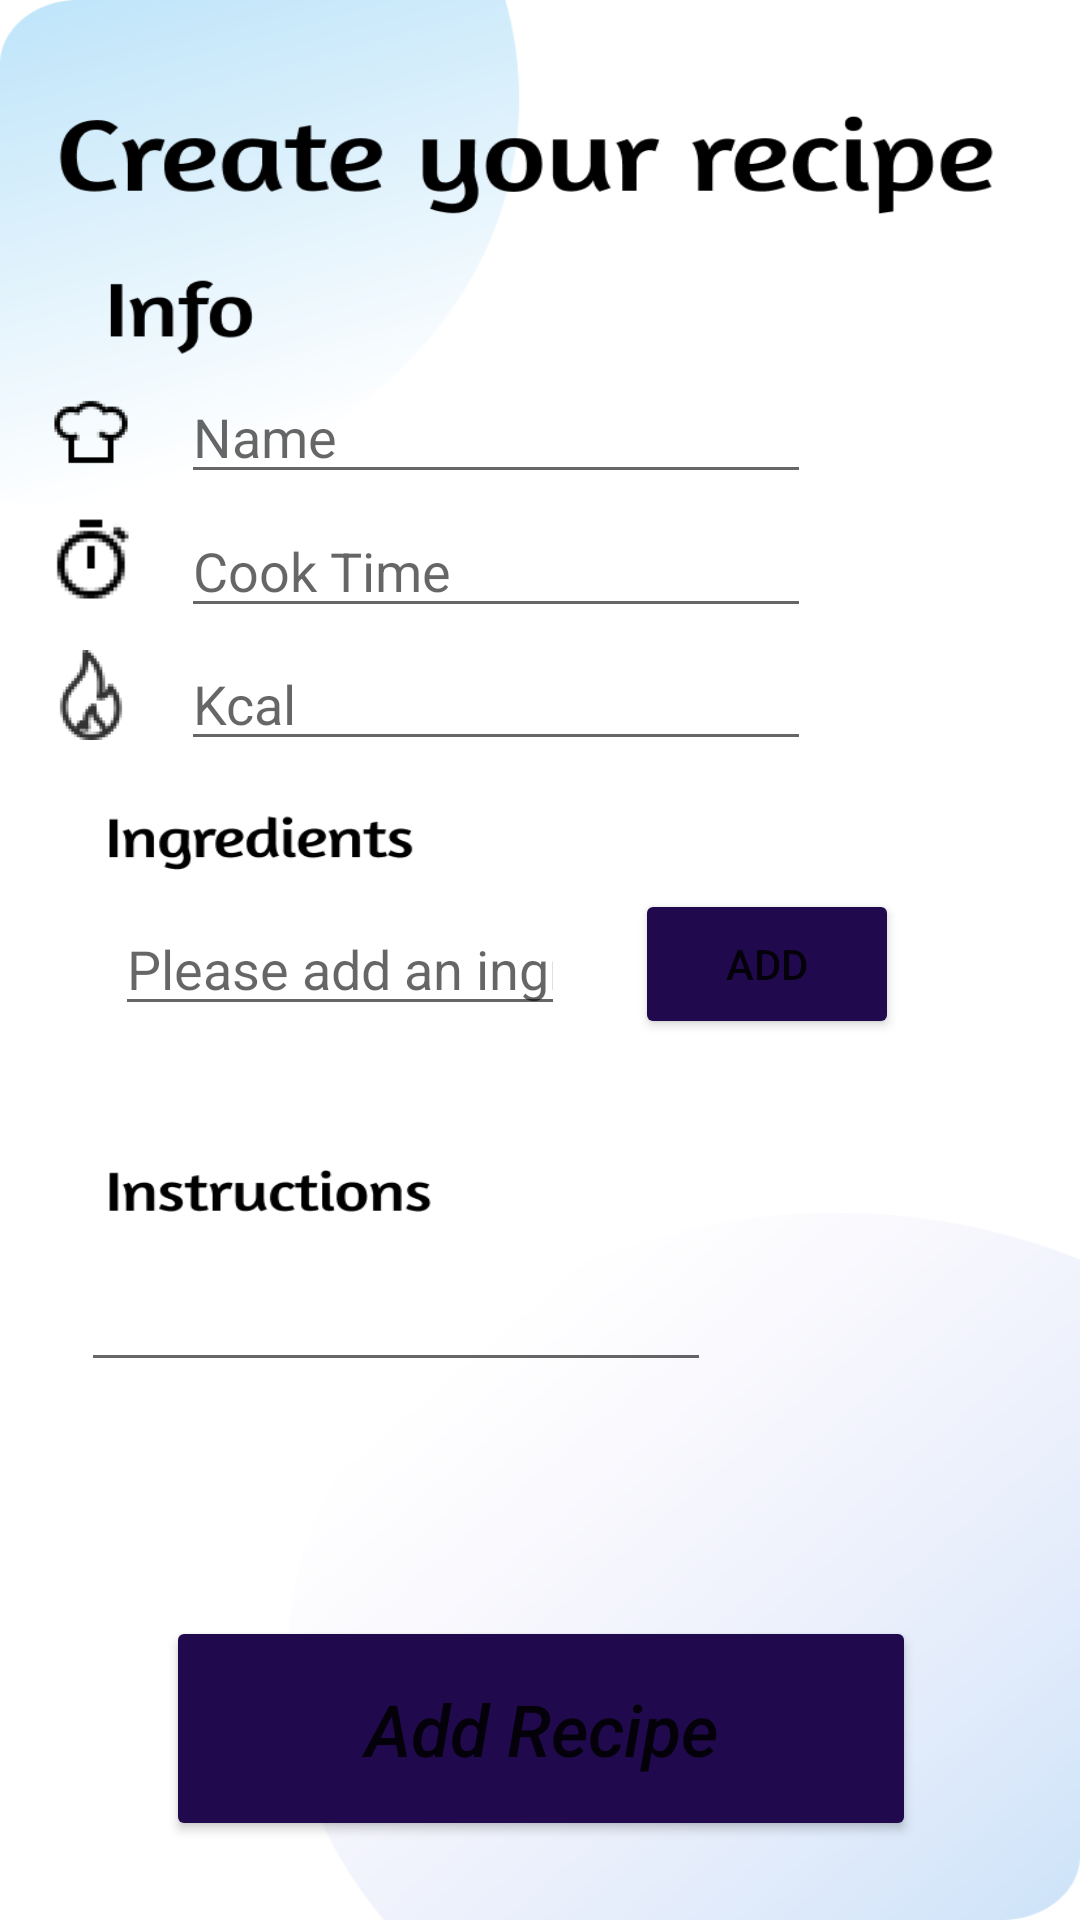

Where to tap for icons on this 1080px×1920px app screen, as (x=x, y=y):
calories: (x=91, y=695)
hat: (x=91, y=432)
